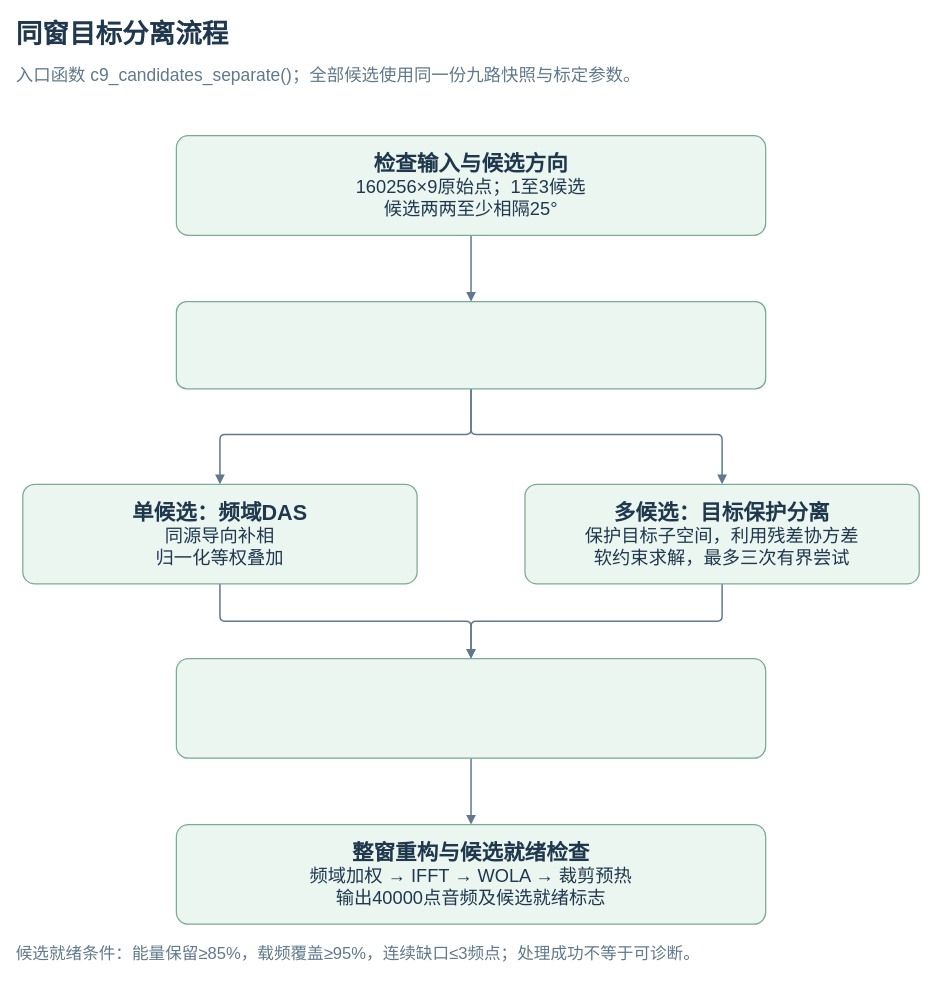
This 941x984 diagram has some shape labels left out. The shapes that lost their labels are listed below. From the top down, each one's centre as x and y in pixels, then its label:
point (470, 345): 预处理与实际协方差估计 抗混叠后4倍抽取；选取8个STFT观察
point (470, 708): 逐频点保真检查 检查目标响应、干扰泄漏与权值范数 不安全频点在输出中置零
